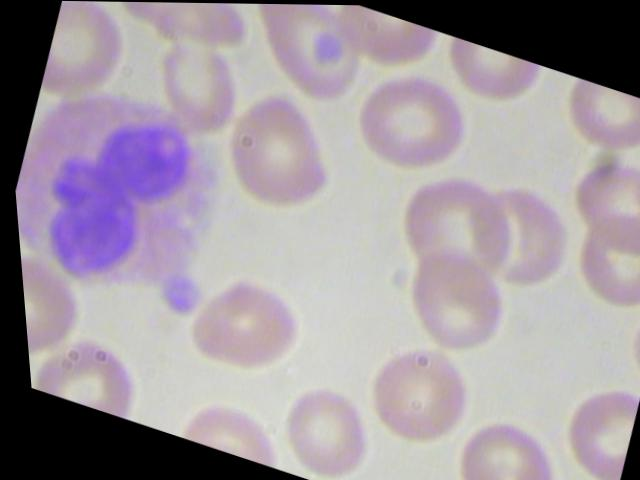Platelets: (148, 269, 206, 324)
Red Blood Cells: (157, 254, 328, 400), (199, 75, 359, 230), (334, 52, 487, 192), (379, 159, 530, 300), (381, 236, 521, 370), (341, 325, 482, 458), (224, 3, 380, 113), (257, 361, 384, 479), (552, 197, 639, 324), (426, 34, 543, 128), (427, 401, 566, 479), (556, 144, 639, 260), (549, 74, 639, 169), (112, 1, 262, 57)
White Blood Cells: (4, 68, 244, 324)
